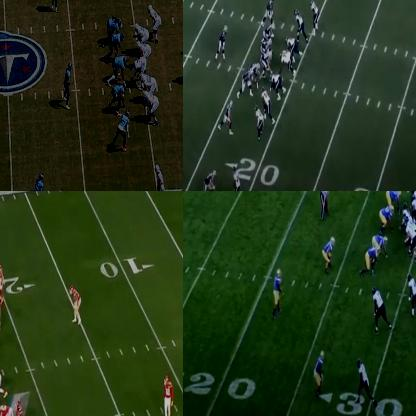CENTER: (132, 58, 145, 81), (261, 51, 273, 70), (402, 202, 412, 220)
DB: (274, 267, 288, 304), (162, 376, 175, 415), (315, 351, 326, 394), (70, 285, 81, 322), (0, 258, 7, 298), (256, 105, 263, 138), (233, 166, 241, 190), (36, 171, 45, 190), (54, 0, 61, 13)
LB: (115, 109, 129, 147), (261, 88, 275, 122), (64, 60, 74, 105), (364, 246, 380, 274), (295, 10, 308, 42), (308, 0, 320, 33), (110, 32, 127, 54), (325, 236, 335, 270), (0, 287, 3, 337)
QB: (218, 25, 226, 58)
SKILL: (372, 287, 386, 331), (356, 359, 371, 400), (150, 5, 161, 45), (153, 161, 168, 190), (145, 97, 157, 124), (201, 169, 216, 190), (408, 273, 415, 318), (224, 101, 233, 134), (266, 0, 274, 25)
